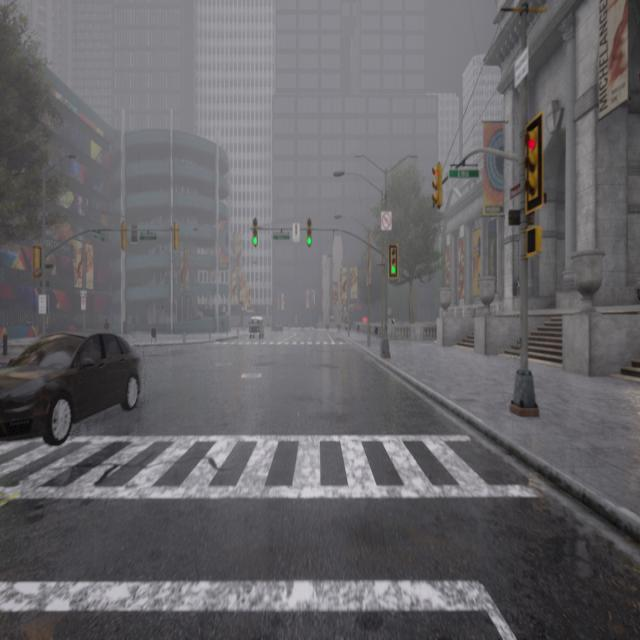11: (376, 209, 393, 234)
5: (518, 134, 534, 158), (430, 164, 440, 180)
bien_chi_dan: (305, 238, 314, 250), (390, 266, 396, 276), (254, 236, 258, 248)
bien_nguy_hiem: (510, 118, 540, 266), (426, 153, 447, 214), (247, 212, 264, 247), (384, 248, 398, 284), (304, 220, 316, 256)
